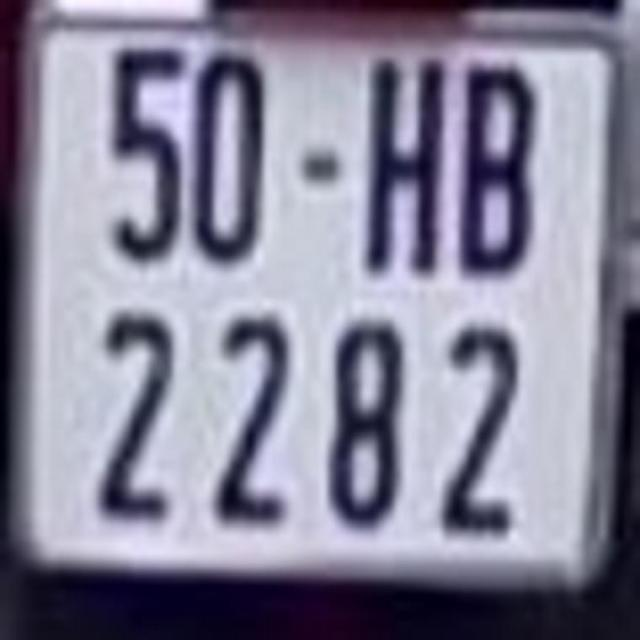0: (190, 42, 264, 265)
2: (442, 317, 521, 544), (213, 303, 286, 531), (100, 302, 171, 526)
5: (112, 47, 187, 260)
8: (328, 309, 404, 530)
B: (456, 51, 532, 279)
H: (362, 52, 445, 292)
